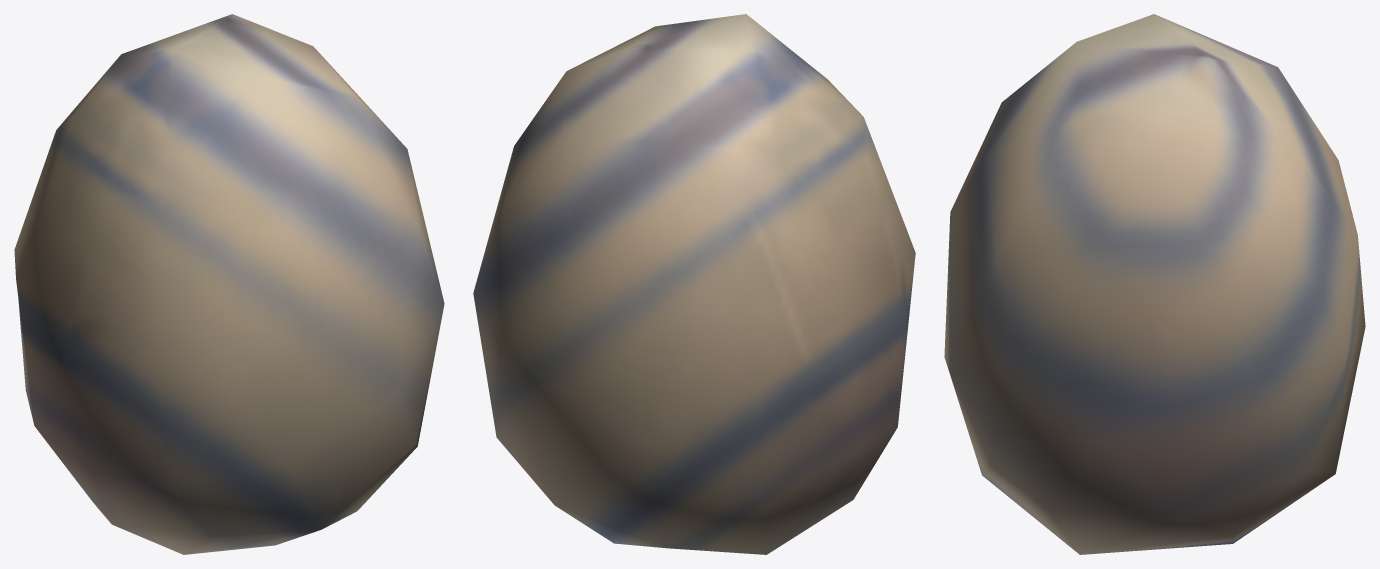
The model's file is SM_Gem_Moonstone_Piece_003.fbx.
3 views of the same model, side by side, from view 1: azimuth 30°, elevation 25°; view 2: azimuth 150°, elevation 25°; view 3: azimuth 270°, elevation 25° (orthographic). The views are drawn at different scales.
Visible parts, largest first — view 1: SM_Gem_Moonstone_Piece_003; view 2: SM_Gem_Moonstone_Piece_003; view 3: SM_Gem_Moonstone_Piece_003.
Part boxes in pixels (bbox=[...]): SM_Gem_Moonstone_Piece_003: bbox=[14, 14, 444, 554]; SM_Gem_Moonstone_Piece_003: bbox=[473, 14, 915, 554]; SM_Gem_Moonstone_Piece_003: bbox=[944, 14, 1365, 554].
Size of the model in its own units: 12.25 by 15.7 by 12.13.
